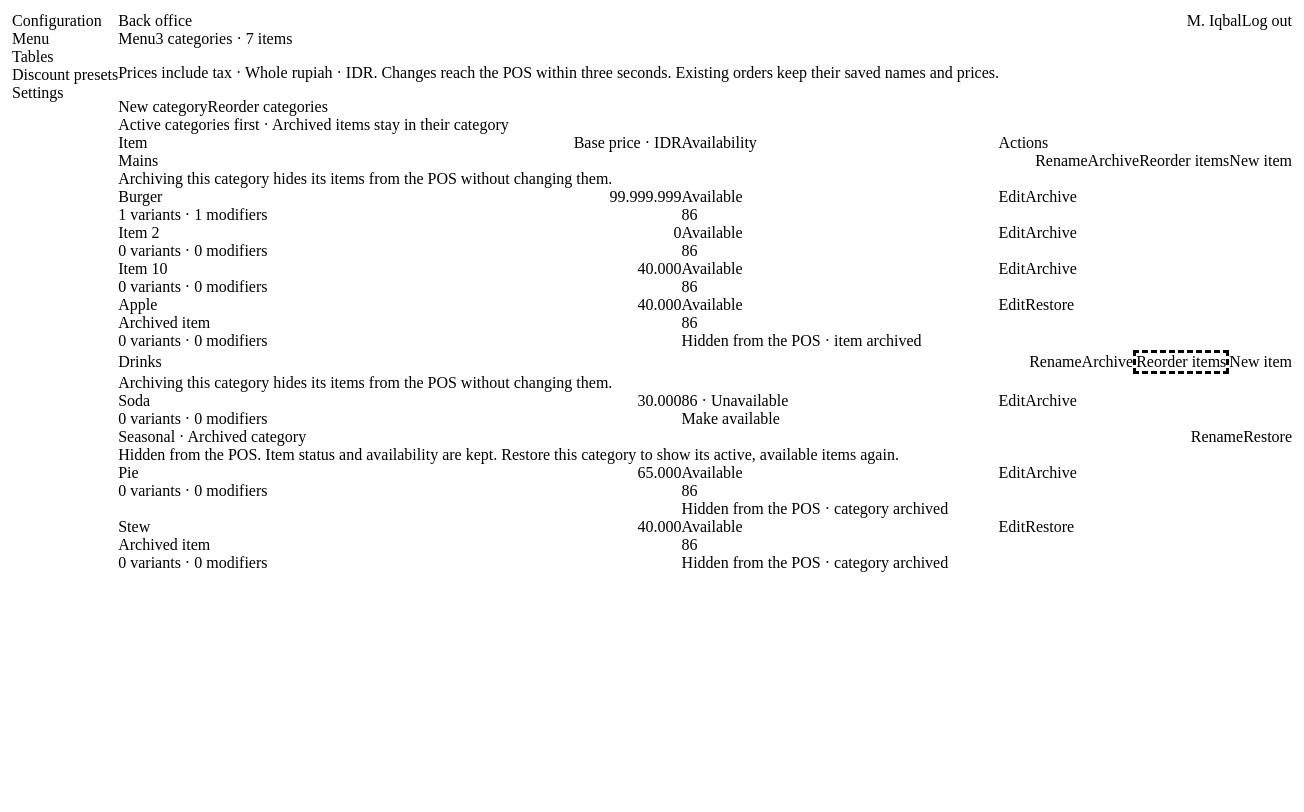
Test case: AC 3. the read and the version it builds on › a failed read shows its state with Try again, which repeats the read only
Click the button "Edit" in the row of "Burger".
click(1012, 197)  # box top-left (998, 188), bottom-right (1025, 206)
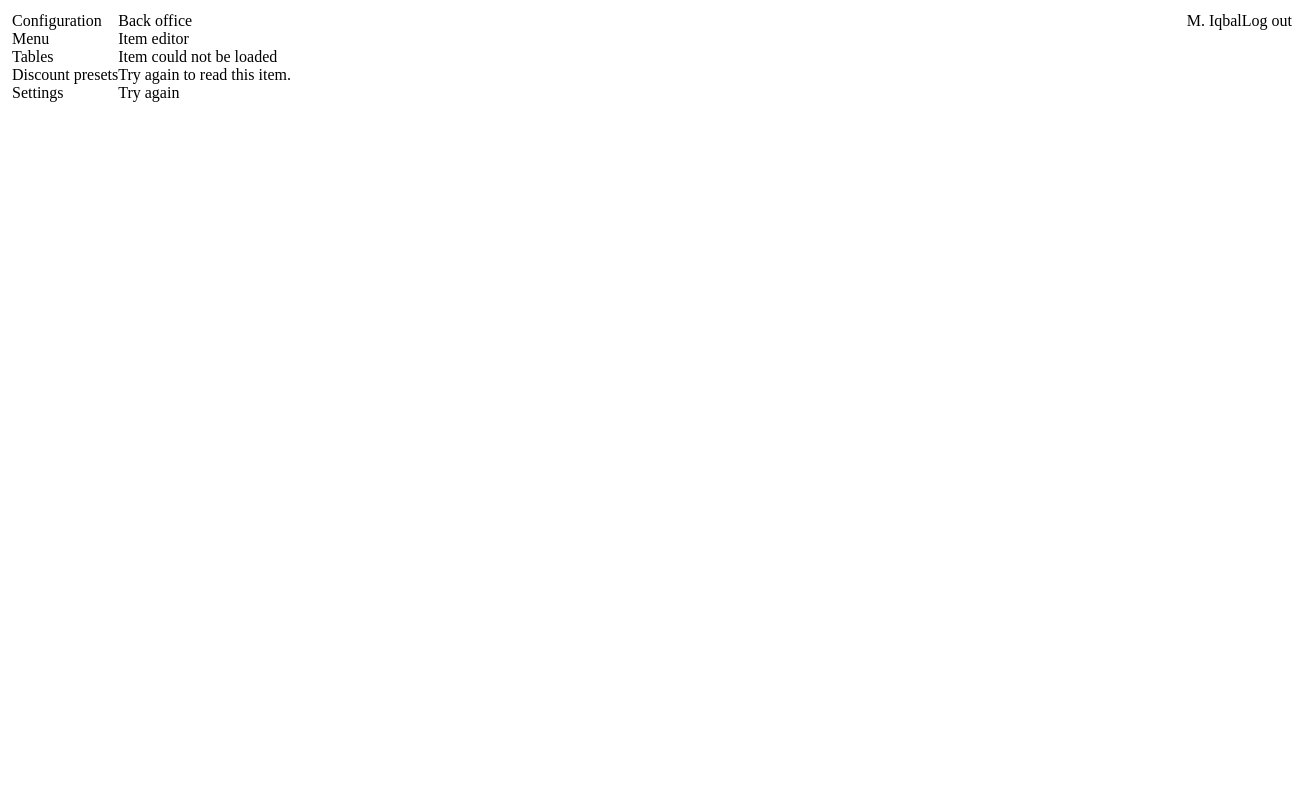
Check: the text "Currency" is not shown
Click the button "Try again".
click(149, 93)  # box top-left (118, 84), bottom-right (179, 102)
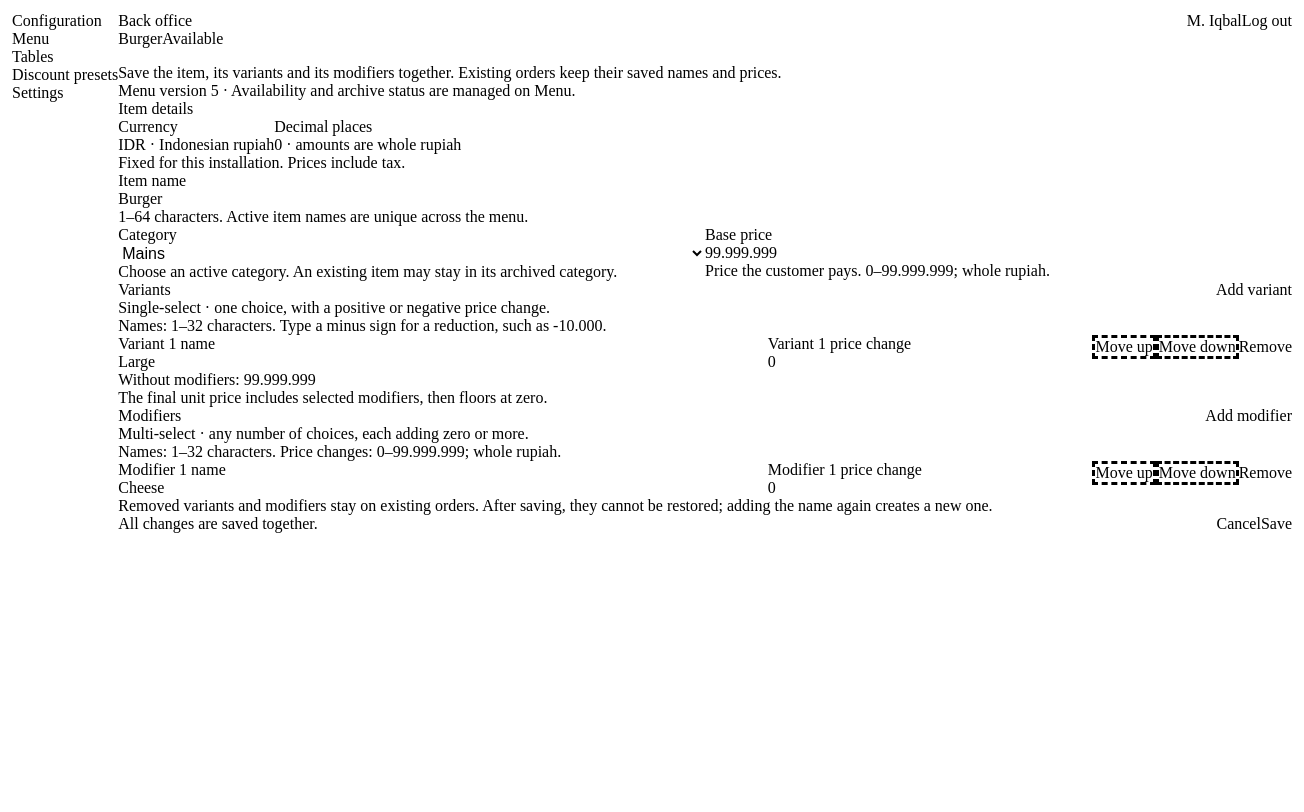
Check: the field with id "item-name" holds "Burger", box top-left (118, 190), bottom-right (1292, 208)
